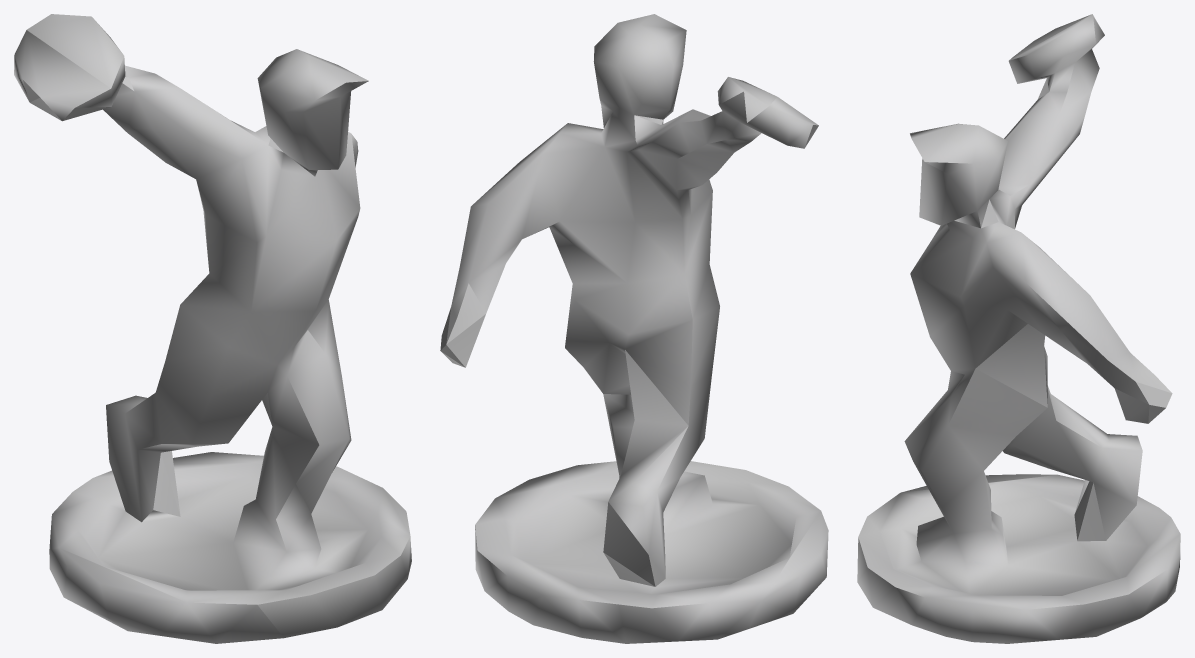
The model's file is marble-discobolus.glb.
The picture shows the model from 3 angles, left to right: view 1: azimuth 30°, elevation 25°; view 2: azimuth 150°, elevation 25°; view 3: azimuth 270°, elevation 25°; orthographic projection. The views are drawn at different scales.
Visible parts, largest first — view 1: geometry_0.001; view 2: geometry_0.001; view 3: geometry_0.001.
Part boxes in pixels (box(x1,y1,x2,y2)): geometry_0.001: box(14, 14, 411, 643); geometry_0.001: box(440, 14, 828, 643); geometry_0.001: box(857, 14, 1180, 643).
Size of the model in its own units: 0.6476 by 1 by 0.5878.
Materials: 1 (1 with a texture image).
